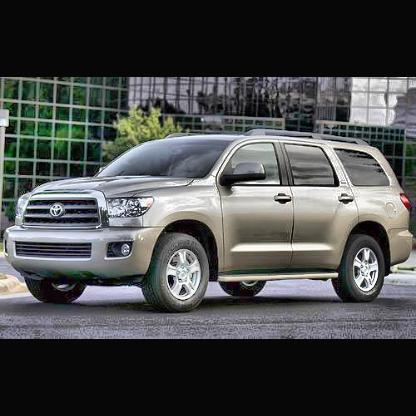Toyota Sequoia SUV 2012: (6, 128, 416, 314)
